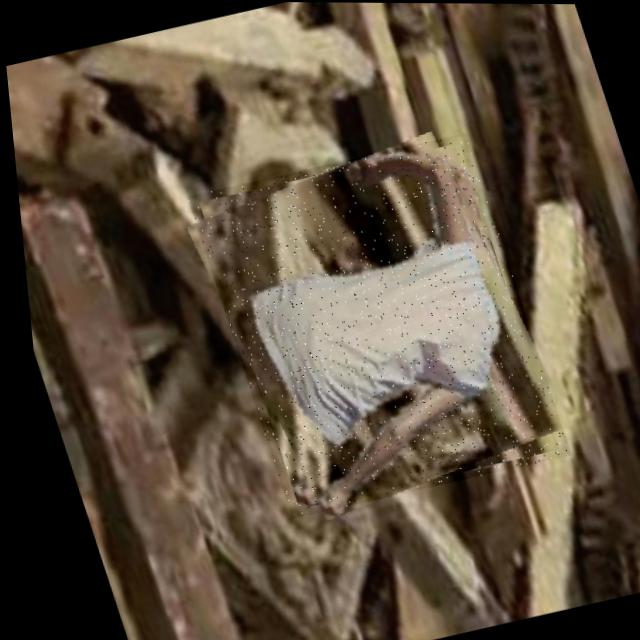Person in Rubble: (177, 130, 566, 520)
